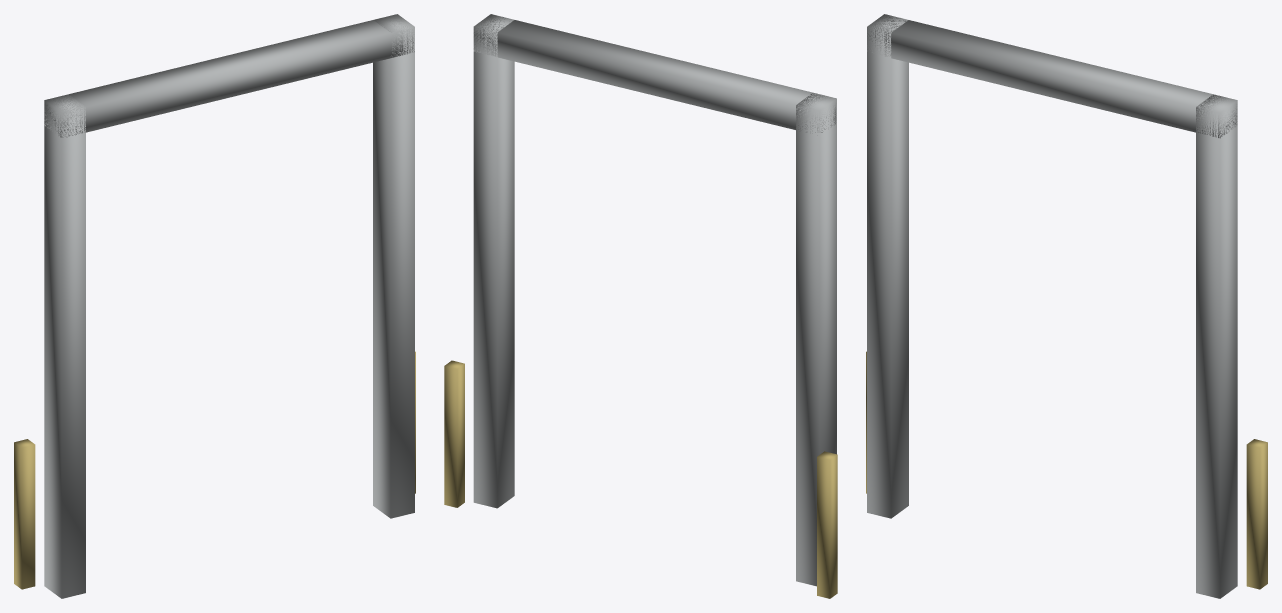
The model's file is stair_shaft_industrial_w180_h260_d18.glb.
3 views of the same model, side by side, from view 1: azimuth 30°, elevation 25°; view 2: azimuth 150°, elevation 25°; view 3: azimuth 330°, elevation 25° (orthographic). The views are drawn at different scales.
Parts seen in each view (by area): view 1: world; view 2: world; view 3: world.
Boxes of the visible parts, left/top/right/bottom form: world: left=14, top=14, right=415, bottom=598; world: left=444, top=14, right=837, bottom=598; world: left=866, top=14, right=1267, bottom=598.
Size of the model in its own units: 2.33 by 2.74 by 0.28.
